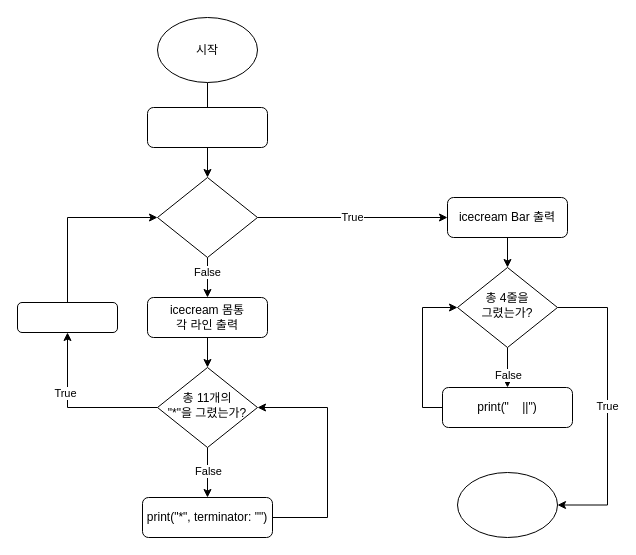
The diagram is 636 pixels wide and 555 high, and some of its shapes have lost their labels. Here are the shapes that lost their labels. From the top down, the centre of each, then its label:
At point 207,127: "icecream 몸통 출력".
At point 207,217: "총 8줄을 그렸는가?".
At point 67,317: "print()".
At point 507,505: "종료".
